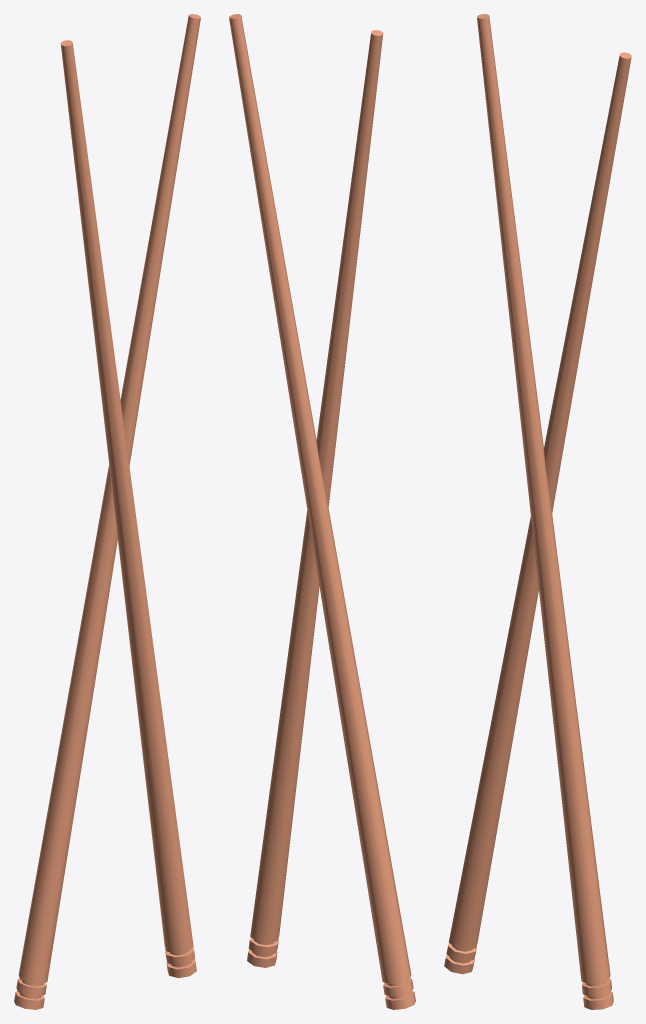
Rendered from chopsticks_crossed_002.glb.
The picture shows the model from 3 angles, left to right: view 1: azimuth 30°, elevation 25°; view 2: azimuth 150°, elevation 25°; view 3: azimuth 330°, elevation 25°; orthographic projection.
Parts seen in each view (by area): view 1: chopsticks crossed.002; view 2: chopsticks crossed.002; view 3: chopsticks crossed.002.
Part boxes in pixels (x1,y1,x2,y2): chopsticks crossed.002: [14, 14, 200, 1009]; chopsticks crossed.002: [229, 14, 415, 1009]; chopsticks crossed.002: [444, 14, 631, 1009].
Bounding box in the file's own units: 1.11 × 5.5 × 0.2315.
1 material, 1 textured.
